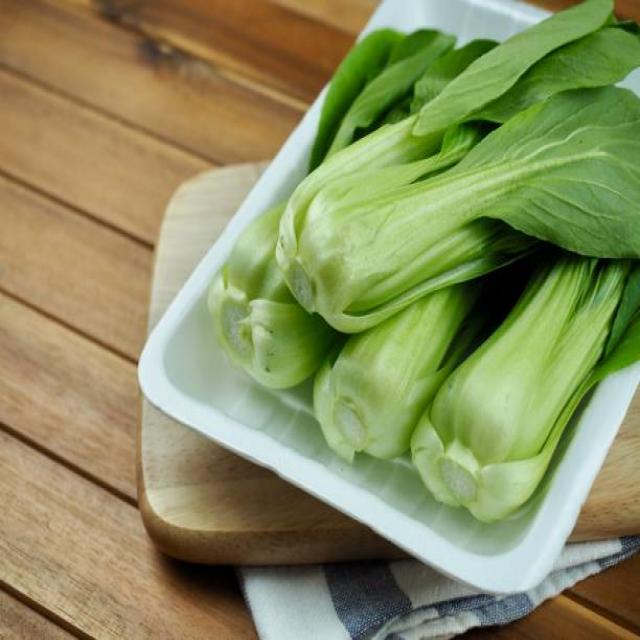Bok Choy: (268, 131, 626, 255), (477, 281, 640, 525)
